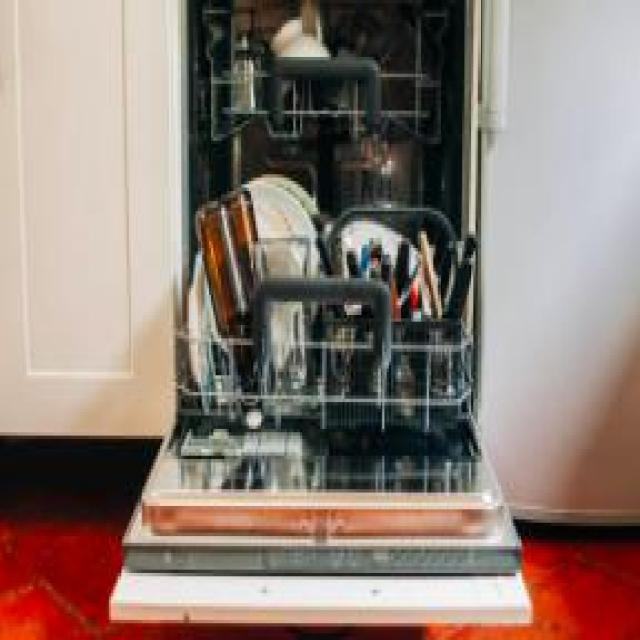dishwasher: (107, 0, 529, 620)
